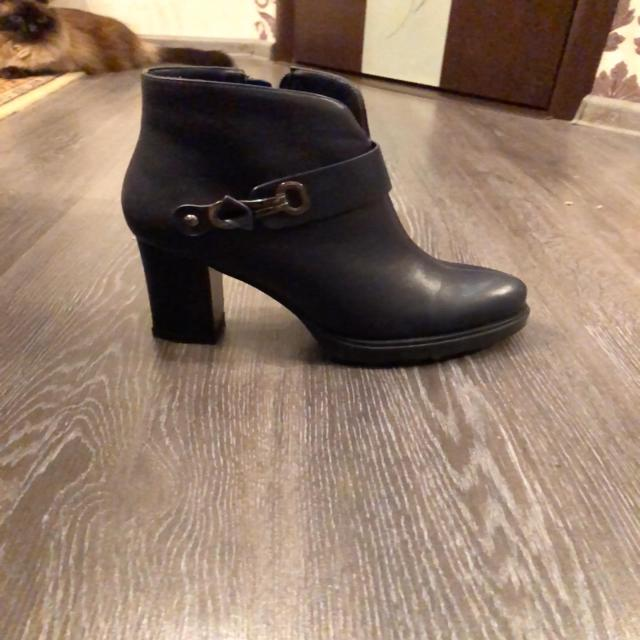shoe: (120, 63, 531, 371)
